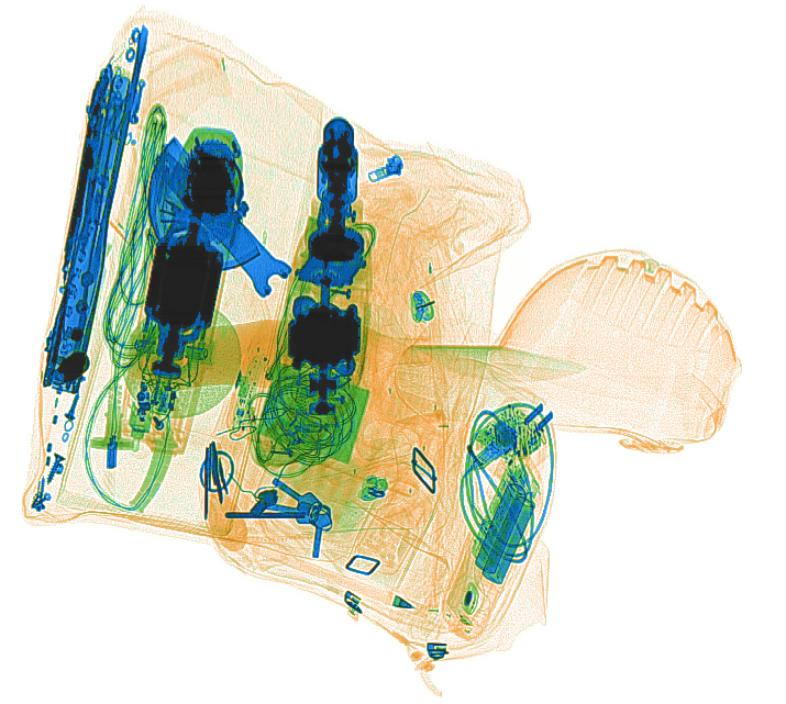battery: (469, 466, 539, 593)
